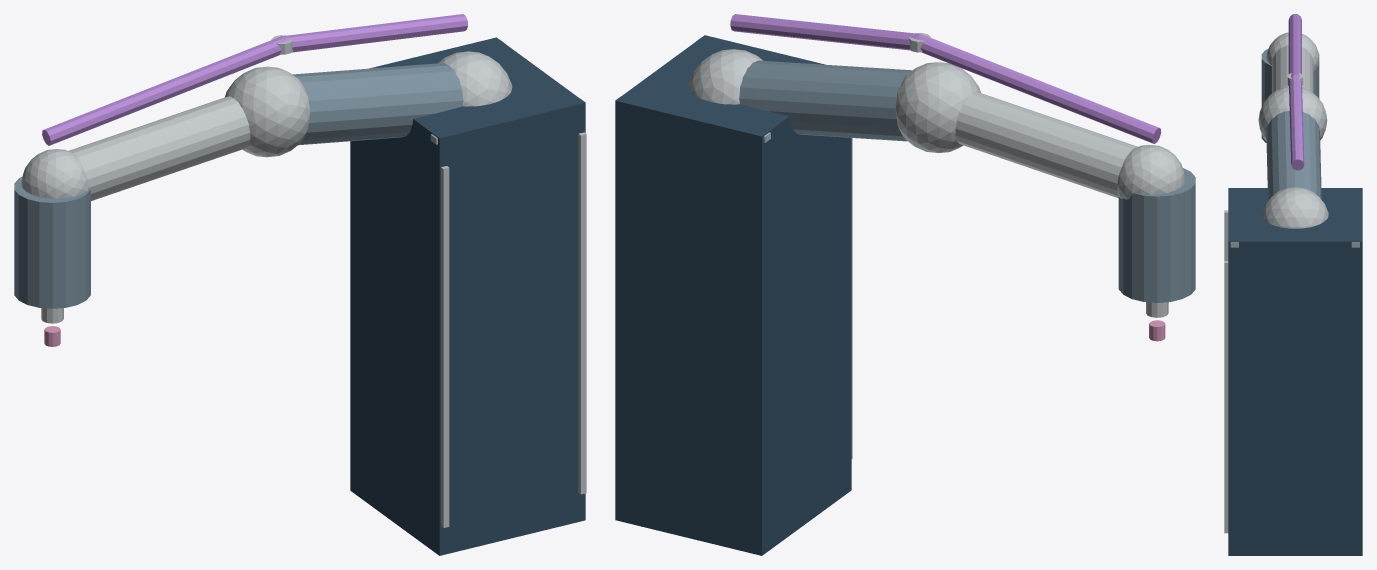
The model's file is 07_L74_PrecisionPhotoresistNozzle.glb.
The picture shows the model from 3 angles, left to right: view 1: azimuth 30°, elevation 25°; view 2: azimuth 150°, elevation 25°; view 3: azimuth 270°, elevation 25°; orthographic projection. The views are drawn at different scales.
Visible parts, largest first — view 1: PrecisionPhotoresistNozzle_Node_0000, PrecisionPhotoresistNozzle_Node_0007, PrecisionPhotoresistNozzle_Node_0010, PrecisionPhotoresistNozzle_Node_0013, PrecisionPhotoresistNozzle_Node_0009, PrecisionPhotoresistNozzle_Node_0017, PrecisionPhotoresistNozzle_Node_0006, PrecisionPhotoresistNozzle_Node_0005, PrecisionPhotoresistNozzle_Node_0016, PrecisionPhotoresistNozzle_Node_0012, PrecisionPhotoresistNozzle_Node_0008; view 2: PrecisionPhotoresistNozzle_Node_0000, PrecisionPhotoresistNozzle_Node_0007, PrecisionPhotoresistNozzle_Node_0010, PrecisionPhotoresistNozzle_Node_0013, PrecisionPhotoresistNozzle_Node_0009, PrecisionPhotoresistNozzle_Node_0017, PrecisionPhotoresistNozzle_Node_0016, PrecisionPhotoresistNozzle_Node_0012, PrecisionPhotoresistNozzle_Node_0008; view 3: PrecisionPhotoresistNozzle_Node_0000, PrecisionPhotoresistNozzle_Node_0007, PrecisionPhotoresistNozzle_Node_0008, PrecisionPhotoresistNozzle_Node_0009, PrecisionPhotoresistNozzle_Node_0006, PrecisionPhotoresistNozzle_Node_0016, PrecisionPhotoresistNozzle_Node_0010, PrecisionPhotoresistNozzle_Node_0017, PrecisionPhotoresistNozzle_Node_0013, PrecisionPhotoresistNozzle_Node_0012, PrecisionPhotoresistNozzle_Node_0005.
Part boxes in pixels (bbox=[...]): PrecisionPhotoresistNozzle_Node_0000: bbox=[350, 37, 585, 555]; PrecisionPhotoresistNozzle_Node_0007: bbox=[292, 63, 463, 145]; PrecisionPhotoresistNozzle_Node_0010: bbox=[69, 96, 250, 200]; PrecisionPhotoresistNozzle_Node_0013: bbox=[14, 176, 90, 308]; PrecisionPhotoresistNozzle_Node_0009: bbox=[225, 66, 309, 157]; PrecisionPhotoresistNozzle_Node_0017: bbox=[42, 37, 284, 145]; PrecisionPhotoresistNozzle_Node_0006: bbox=[578, 132, 586, 494]; PrecisionPhotoresistNozzle_Node_0005: bbox=[441, 166, 449, 527]; PrecisionPhotoresistNozzle_Node_0016: bbox=[282, 14, 467, 52]; PrecisionPhotoresistNozzle_Node_0012: bbox=[21, 149, 88, 198]; PrecisionPhotoresistNozzle_Node_0008: bbox=[438, 51, 512, 106]; PrecisionPhotoresistNozzle_Node_0000: bbox=[615, 35, 851, 555]; PrecisionPhotoresistNozzle_Node_0007: bbox=[739, 60, 911, 141]; PrecisionPhotoresistNozzle_Node_0010: bbox=[955, 92, 1137, 198]; PrecisionPhotoresistNozzle_Node_0013: bbox=[1118, 168, 1195, 302]; PrecisionPhotoresistNozzle_Node_0009: bbox=[895, 62, 980, 153]; PrecisionPhotoresistNozzle_Node_0017: bbox=[917, 34, 1161, 143]; PrecisionPhotoresistNozzle_Node_0016: bbox=[730, 14, 920, 50]; PrecisionPhotoresistNozzle_Node_0012: bbox=[1117, 144, 1185, 199]; PrecisionPhotoresistNozzle_Node_0008: bbox=[689, 49, 763, 104]; PrecisionPhotoresistNozzle_Node_0000: bbox=[1228, 188, 1362, 555]; PrecisionPhotoresistNozzle_Node_0007: bbox=[1266, 111, 1321, 200]; PrecisionPhotoresistNozzle_Node_0008: bbox=[1262, 187, 1328, 228]; PrecisionPhotoresistNozzle_Node_0009: bbox=[1258, 86, 1327, 141]; PrecisionPhotoresistNozzle_Node_0006: bbox=[1224, 261, 1228, 533]; PrecisionPhotoresistNozzle_Node_0016: bbox=[1289, 75, 1304, 170]; PrecisionPhotoresistNozzle_Node_0010: bbox=[1272, 45, 1313, 93]; PrecisionPhotoresistNozzle_Node_0017: bbox=[1288, 14, 1301, 75]; PrecisionPhotoresistNozzle_Node_0013: bbox=[1261, 48, 1319, 142]; PrecisionPhotoresistNozzle_Node_0012: bbox=[1266, 32, 1319, 72]; PrecisionPhotoresistNozzle_Node_0005: bbox=[1224, 210, 1228, 260].
Size of the model in its own units: 1.88 by 1.75 by 0.5653.
